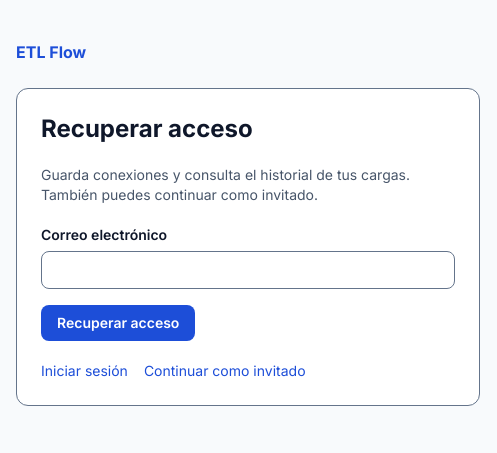
account forms › recovery does not reveal account existence
Type "unknown@example.com" into the field labelled "Correo electrónico" at (248, 270), box [41, 251, 455, 289]
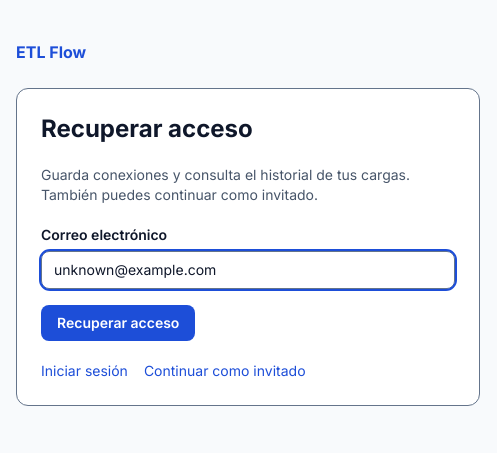
Click the button "Recuperar acceso" at (118, 323), box [41, 305, 195, 341]
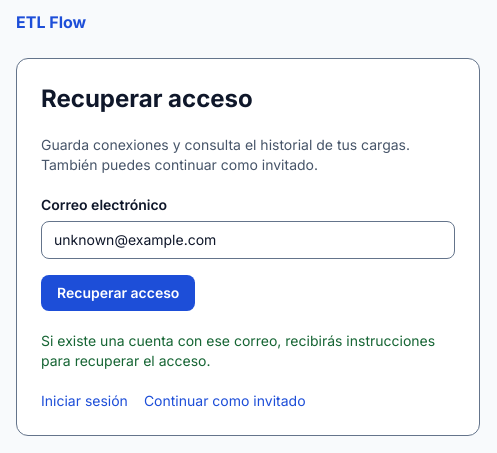
Now the message shows "Si existe una cuenta", box [41, 332, 435, 369]
